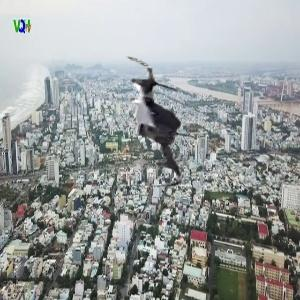drone: (95, 59, 225, 189)
